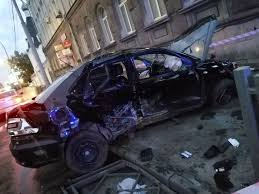car: (14, 38, 250, 157)
